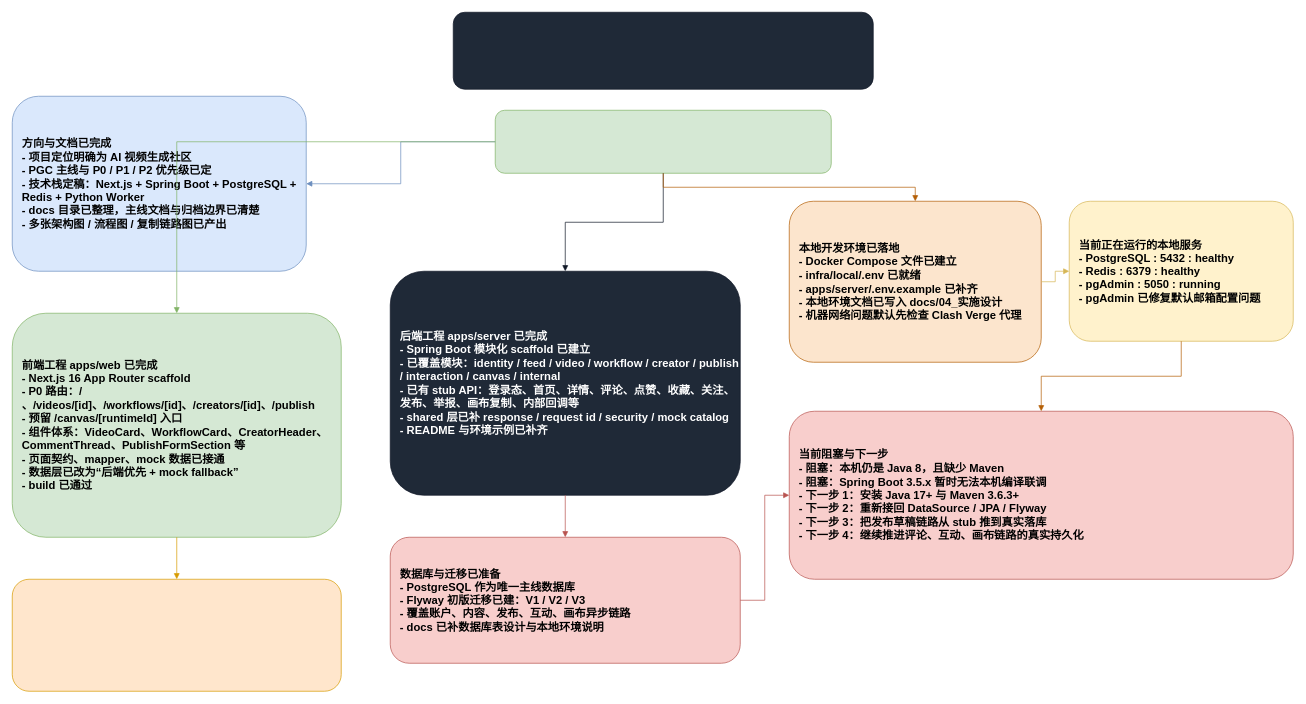
This 1306x704 diagram has some shape labels left out. Here are the shapes that lost their labels. From the top down, the centre of each, then its label:
(663,50): DramaTV 社区 当前阶段完成情况总览
(663,141): 截至 2026-04-07 主线骨架、文档体系、前后端 scaffold、本地基础设施均已落地
(176,635): 原型与设计参考已保留 - 根目录 React + Vite 原型继续保留 - 可作为视觉、信息层级、交互对照参考 - 避免正式工程推进时丢失已有页面探索成果
